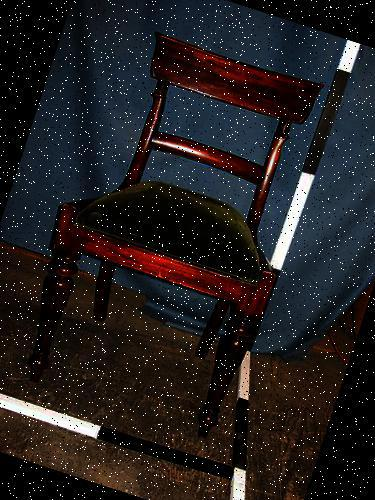Silla: (0, 3, 344, 443)
